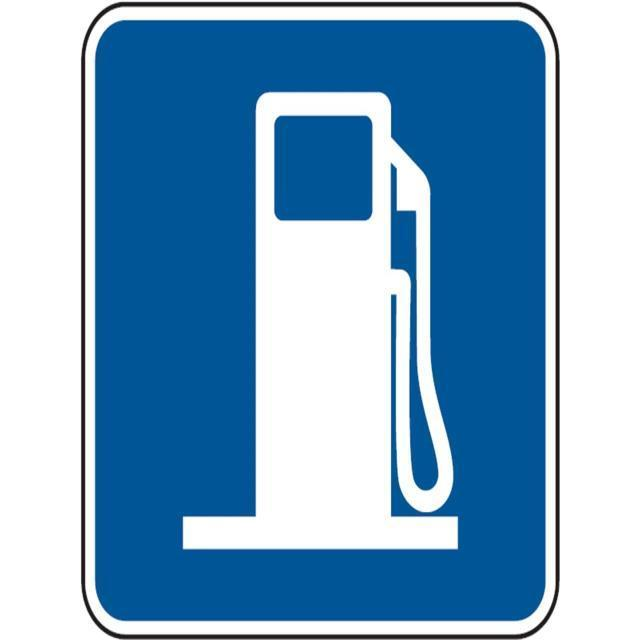petrol pump ahead: (119, 47, 515, 573)
